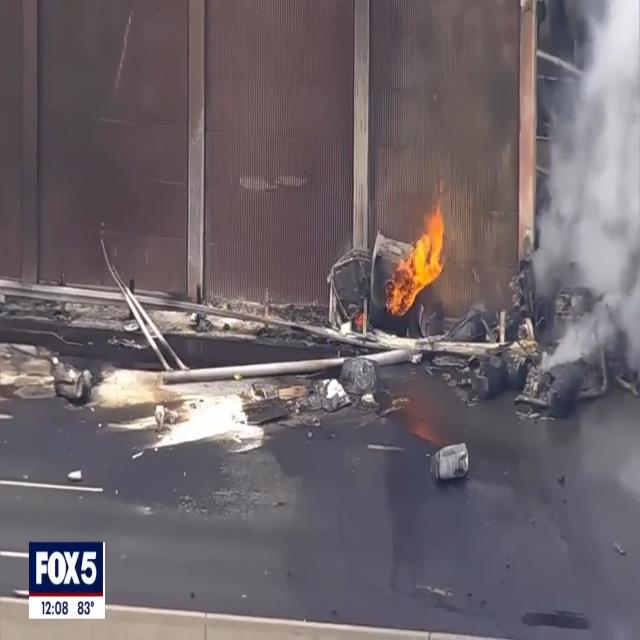fire: (384, 202, 449, 316)
